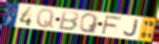4: (18, 6, 33, 27)
B: (57, 10, 80, 32)
F: (100, 15, 123, 35)
J: (123, 19, 140, 37)
Q: (79, 13, 100, 34), (35, 8, 55, 30)
